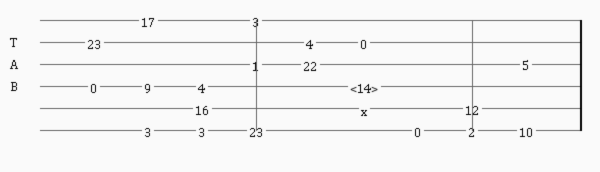0: (90, 80, 101, 93), (360, 36, 371, 49), (414, 124, 425, 137)
1: (252, 58, 263, 71)
10: (519, 124, 537, 137)
12: (465, 102, 483, 115)
16: (195, 102, 213, 115)
17: (141, 14, 159, 27)
2: (468, 124, 479, 137)
22: (303, 58, 321, 71)
23: (87, 36, 105, 49), (249, 124, 267, 137)
3: (144, 124, 155, 137), (198, 124, 209, 137), (252, 14, 263, 27)
4: (198, 80, 209, 93), (306, 36, 317, 49)
5: (522, 57, 533, 71)
9: (144, 80, 155, 93)
harmonic: (350, 80, 382, 93)
x: (361, 103, 371, 113)
